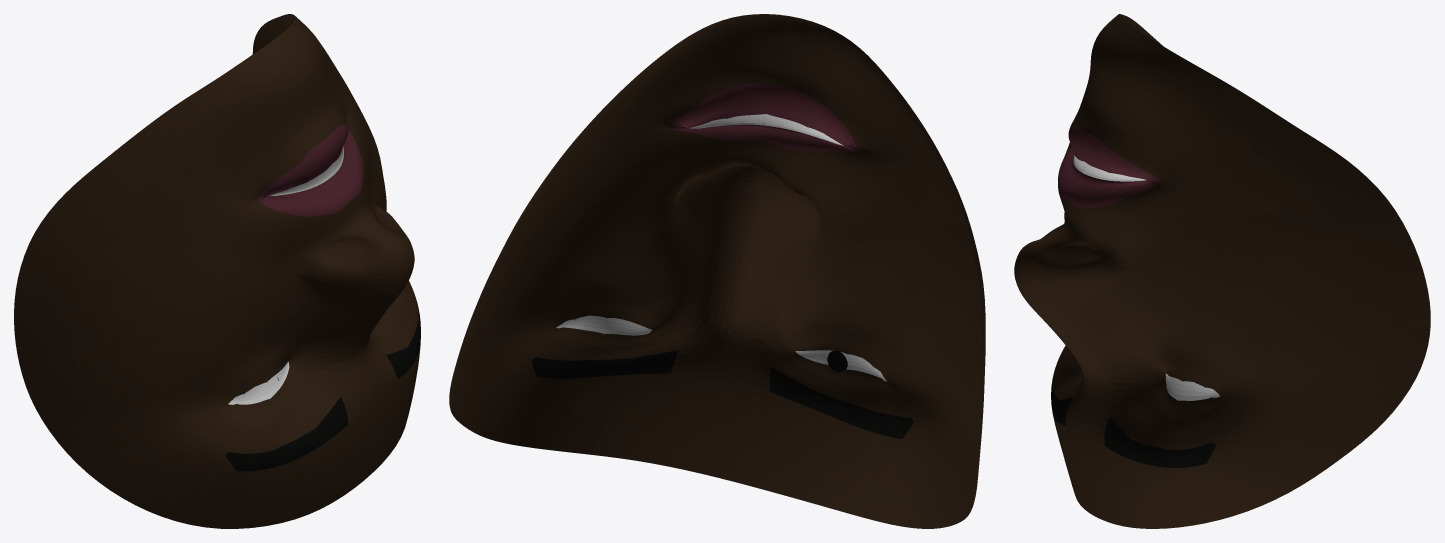
The model's file is frame_00102.obj.
3 renders of one model, left to right at view 1: azimuth 30°, elevation 25°; view 2: azimuth 150°, elevation 25°; view 3: azimuth 270°, elevation 25°, orthographic. The views are drawn at different scales.
Parts seen in each view (by area): view 1: face_mesh_subdivided; view 2: face_mesh_subdivided; view 3: face_mesh_subdivided.
Boxes of the visible parts, x1=… form: face_mesh_subdivided: x1=14, y1=14, x2=420, y2=528; face_mesh_subdivided: x1=449, y1=14, x2=985, y2=528; face_mesh_subdivided: x1=1014, y1=14, x2=1430, y2=528.
Size of the model in its own units: 0.4977 by 0.5373 by 0.4345.
